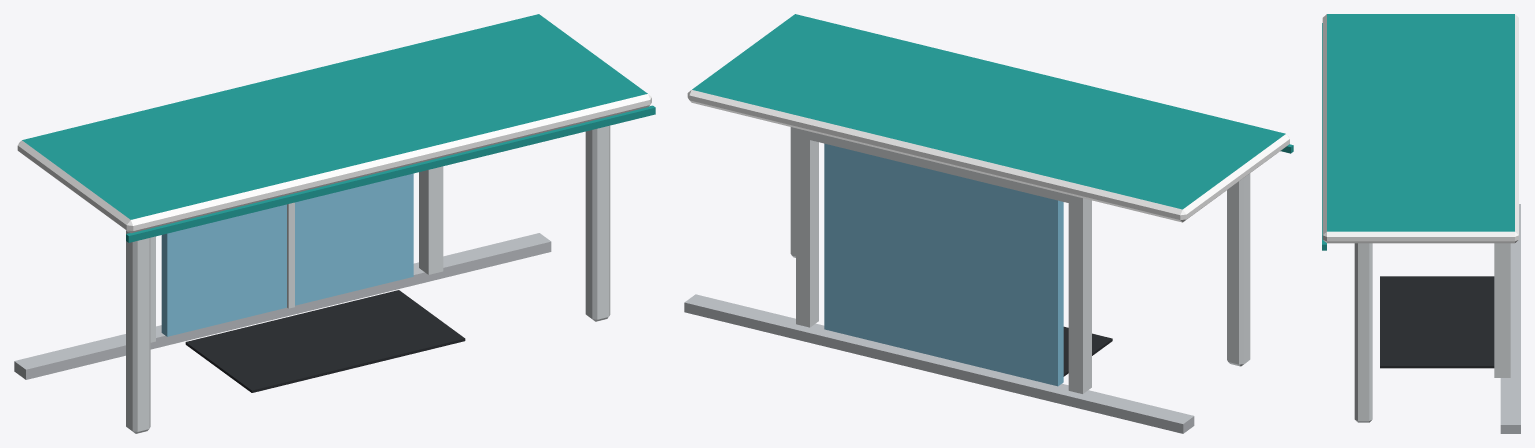
The model's file is entrance.fbx.
3 views of the same model, side by side, from view 1: azimuth 30°, elevation 25°; view 2: azimuth 150°, elevation 25°; view 3: azimuth 270°, elevation 25° (orthographic). The views are drawn at different scales.
Parts seen in each view (by area): view 1: entrance; view 2: entrance; view 3: entrance.
Boxes of the visible parts, x1=… form: entrance: x1=14, y1=14, x2=655, y2=433; entrance: x1=684, y1=14, x2=1293, y2=433; entrance: x1=1322, y1=14, x2=1520, y2=433.
Bounding box in the file's own units: 6.42 × 2.71 × 2.43.
